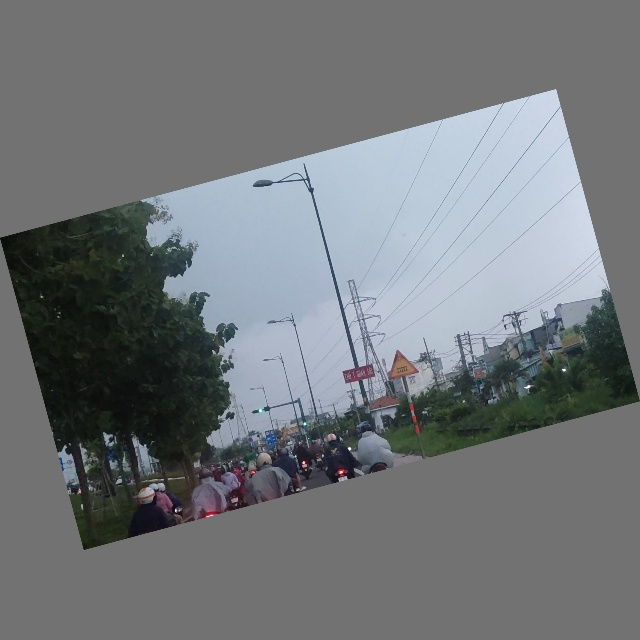W.210: (383, 346, 420, 382)
